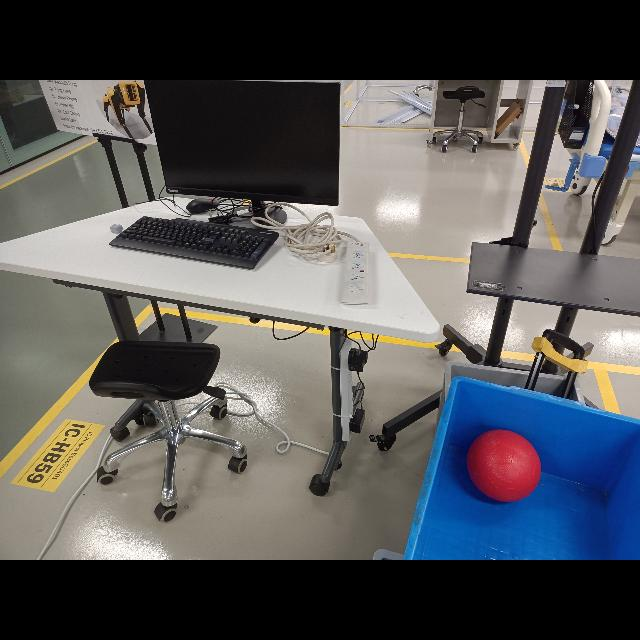R: (465, 428, 541, 504)
